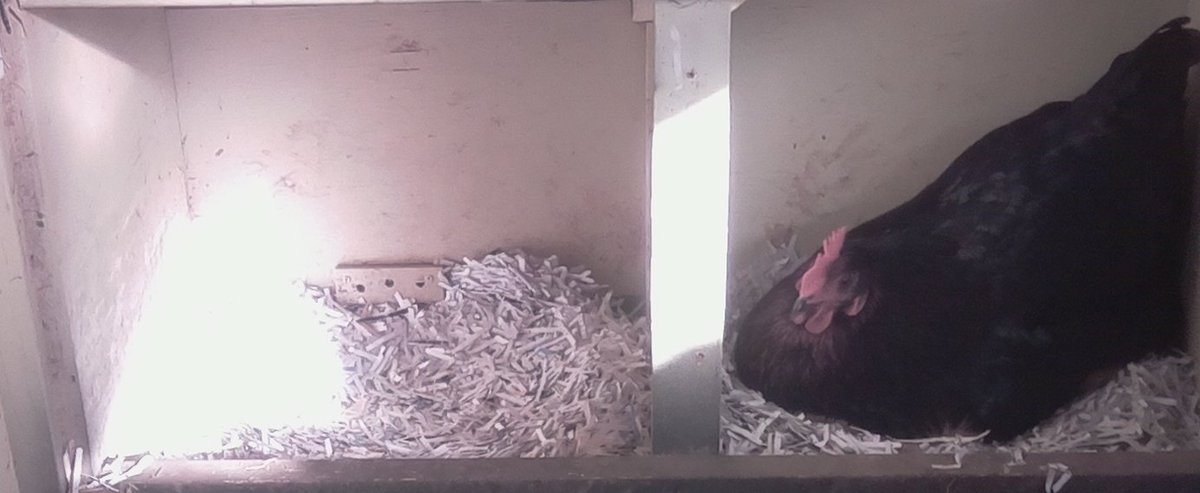hen: (734, 94, 1197, 446)
